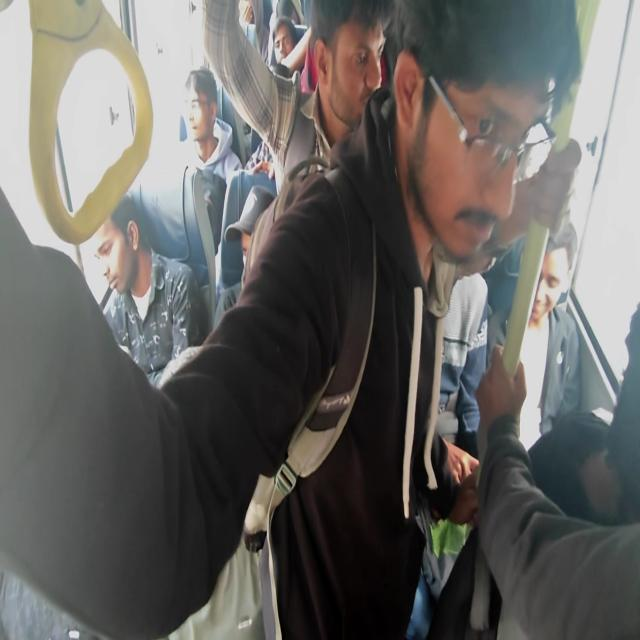person: (407, 34, 595, 304), (598, 314, 640, 638), (318, 0, 403, 137), (523, 216, 578, 328), (86, 210, 148, 298), (234, 199, 271, 280), (270, 13, 308, 78), (185, 79, 216, 144)
